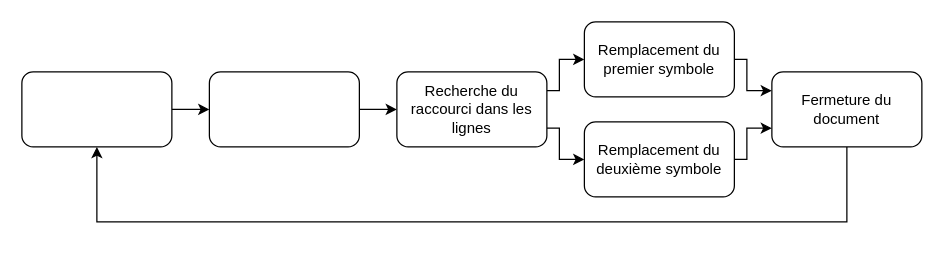
Image size: 944x254. Some labels were removed from this diagram. The centre of each missing label's shape, as x and y in pixels:
Ouverture du fichier .md en lecture: (x=96, y=109)
Séparation du fichier en lignes individuelles: (x=283, y=109)
